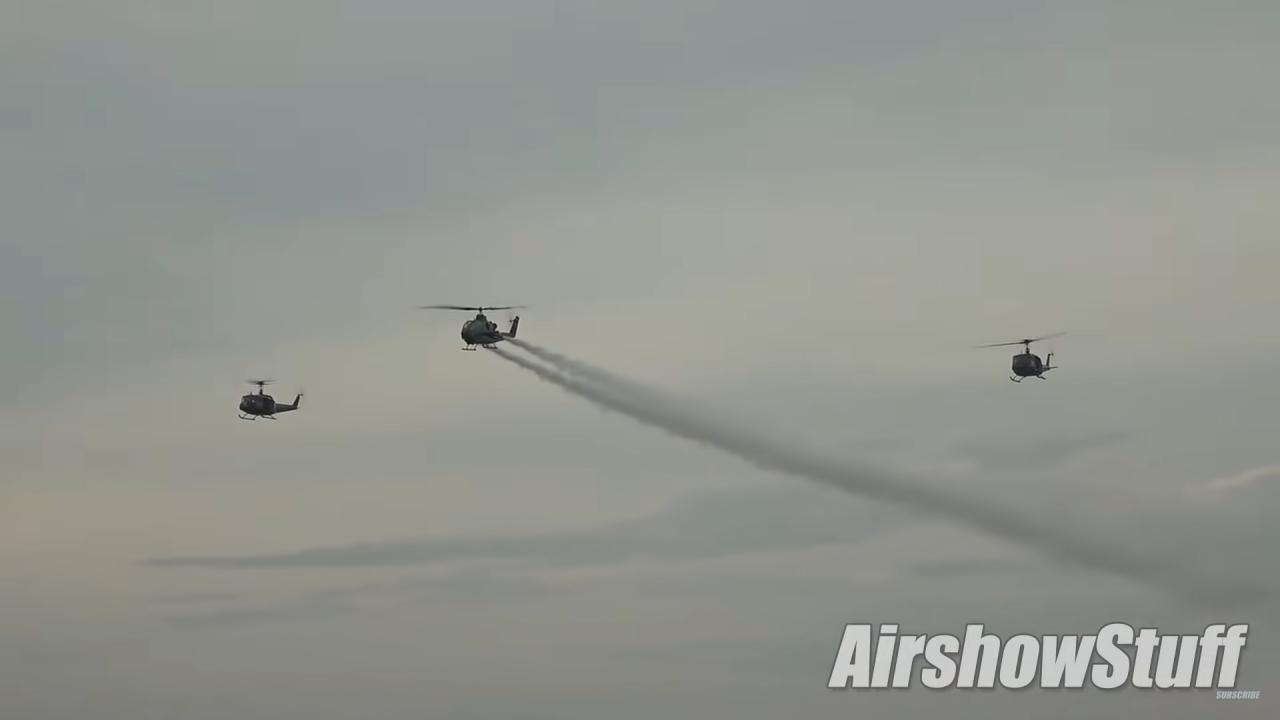Helicopter: (410, 294, 538, 360), (968, 321, 1084, 393), (223, 368, 315, 428)
